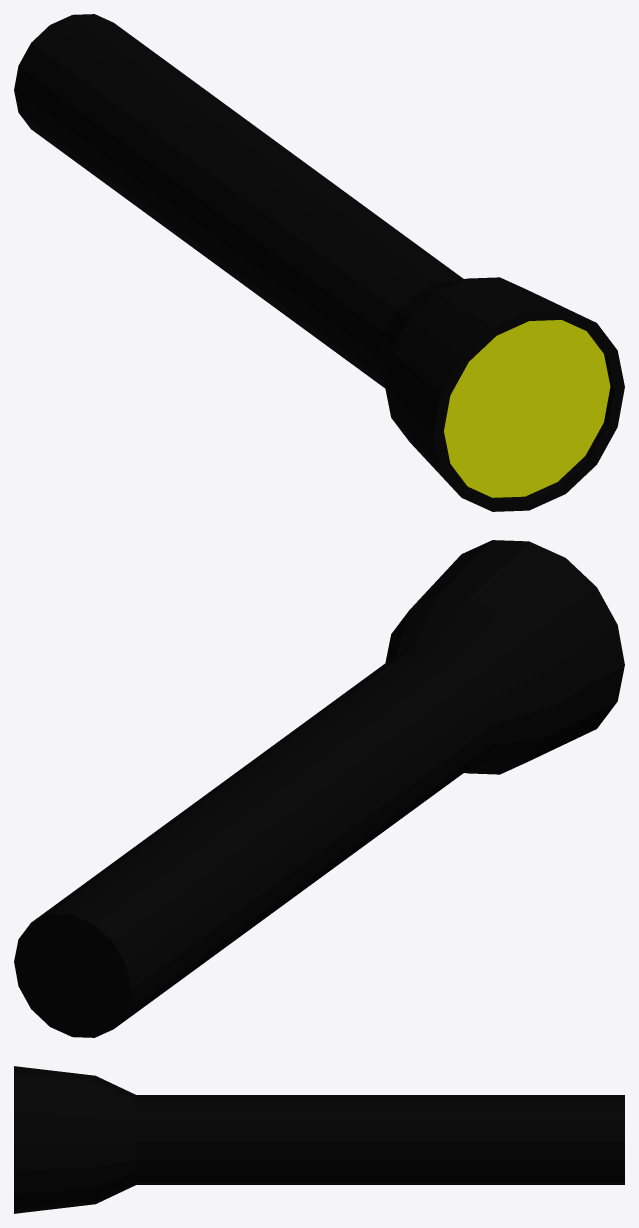
File: Torch.fbx
3 views of the same model, one above another, from view 1: azimuth 30°, elevation 25°; view 2: azimuth 150°, elevation 25°; view 3: azimuth 270°, elevation 25° (orthographic). The views are drawn at different scales.
Visible parts, largest first — view 1: torch; view 2: torch; view 3: torch.
Boxes of the visible parts, left/top/right/bottom form: torch: left=14, top=14, right=624, bottom=511; torch: left=14, top=540, right=624, bottom=1037; torch: left=14, top=1066, right=624, bottom=1213.
Size of the model in its own units: 46.18 by 46.18 by 191.
